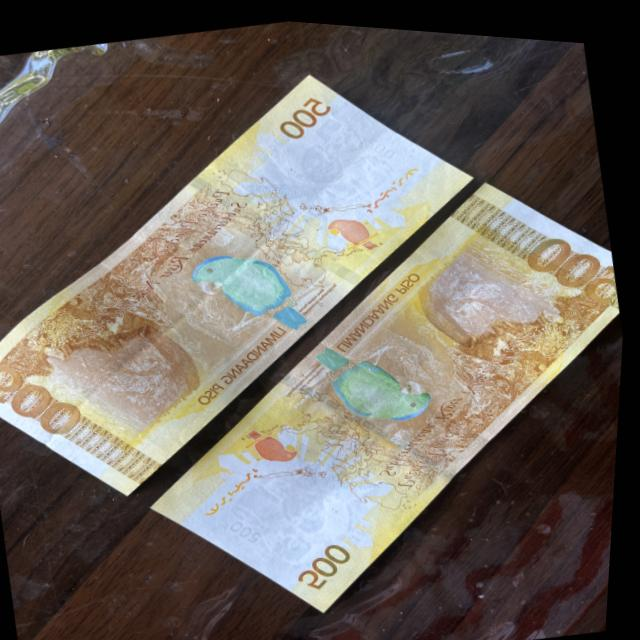500_big_parrot: (187, 236, 313, 342), (318, 325, 440, 430)
500_parrot_watermark: (246, 411, 309, 468), (325, 202, 389, 256)
value_watermark: (233, 511, 270, 544), (365, 126, 400, 159)
watermark: (227, 456, 375, 566), (277, 108, 402, 212)
